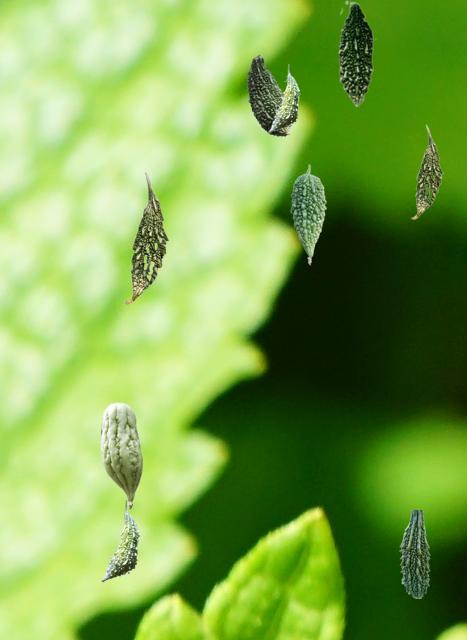ampalaya: (124, 171, 168, 303), (100, 402, 142, 508), (338, 0, 375, 106), (290, 164, 325, 264), (247, 54, 290, 135), (101, 500, 139, 581), (411, 124, 442, 218), (399, 510, 429, 597), (268, 64, 299, 132)
